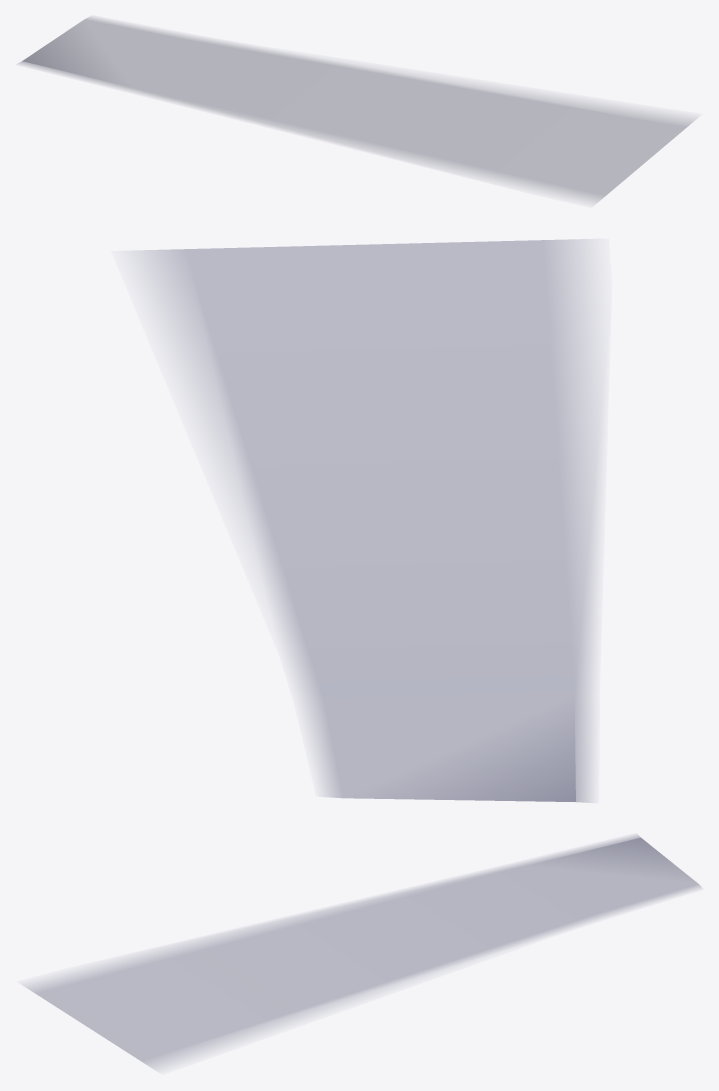
The picture shows the model from 3 angles, top to bottom: view 1: azimuth 30°, elevation 25°; view 2: azimuth 150°, elevation 25°; view 3: azimuth 270°, elevation 25°; orthographic projection. The views are drawn at different scales.
Visible parts, largest first — view 1: Joint_0_Object_0; view 2: Joint_0_Object_0; view 3: Joint_0_Object_0.
Part boxes in pixels (box(x1,y1,x2,y2)): Joint_0_Object_0: box(19, 17, 693, 201); Joint_0_Object_0: box(145, 240, 594, 802); Joint_0_Object_0: box(27, 835, 700, 1068).
Size of the model in its own units: 281 by 0.0083 by 335.
1 material, 1 textured.
